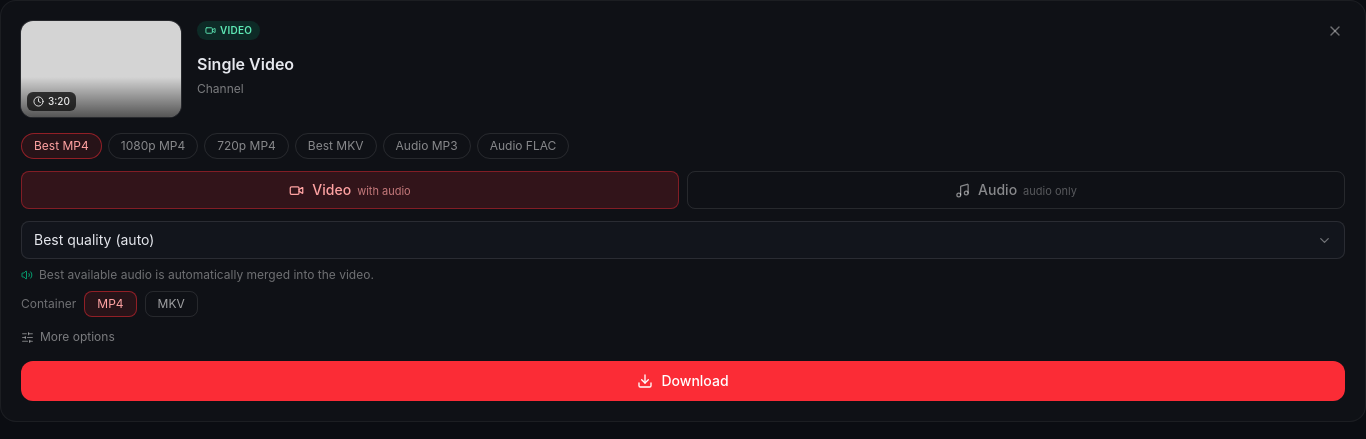
Scenario: MediaCard › applies an audio preset
Click the button "Audio MP3" at (427, 146), box [382,133,471,159]
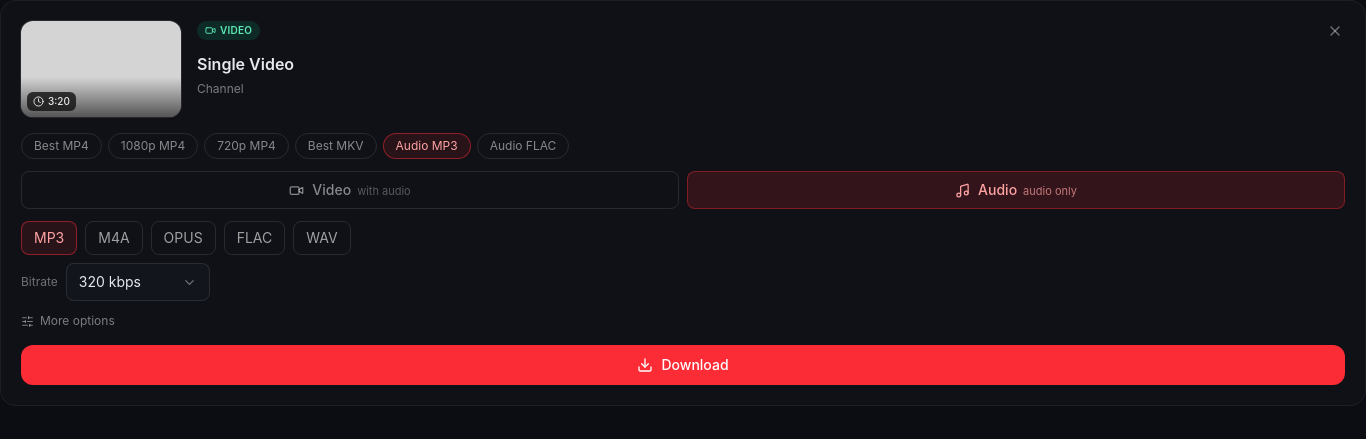
Now the text "Bitrate" is shown, box [21,274,58,290]
